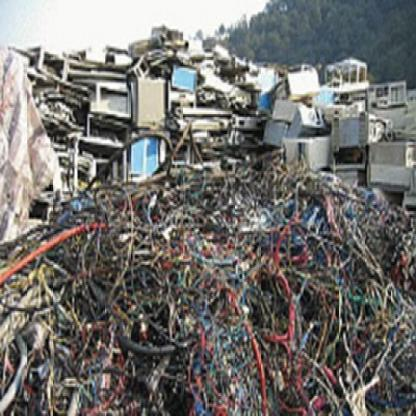wires: (1, 120, 415, 414)
